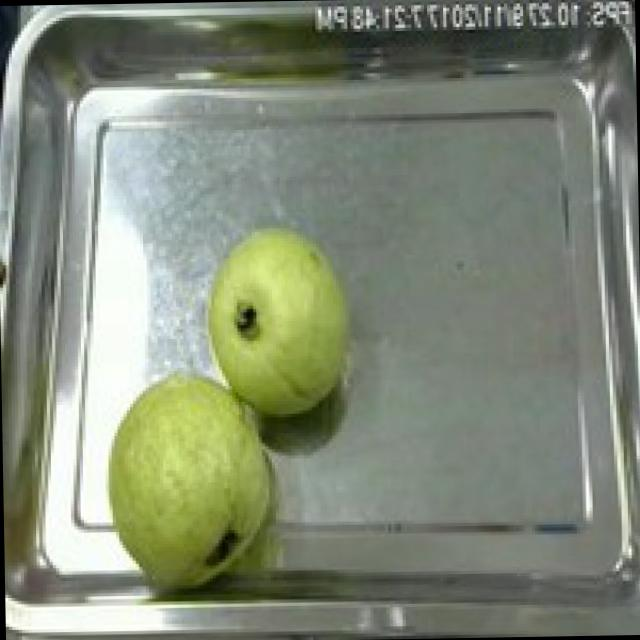Fruit: (87, 362, 289, 592), (190, 213, 367, 428)
